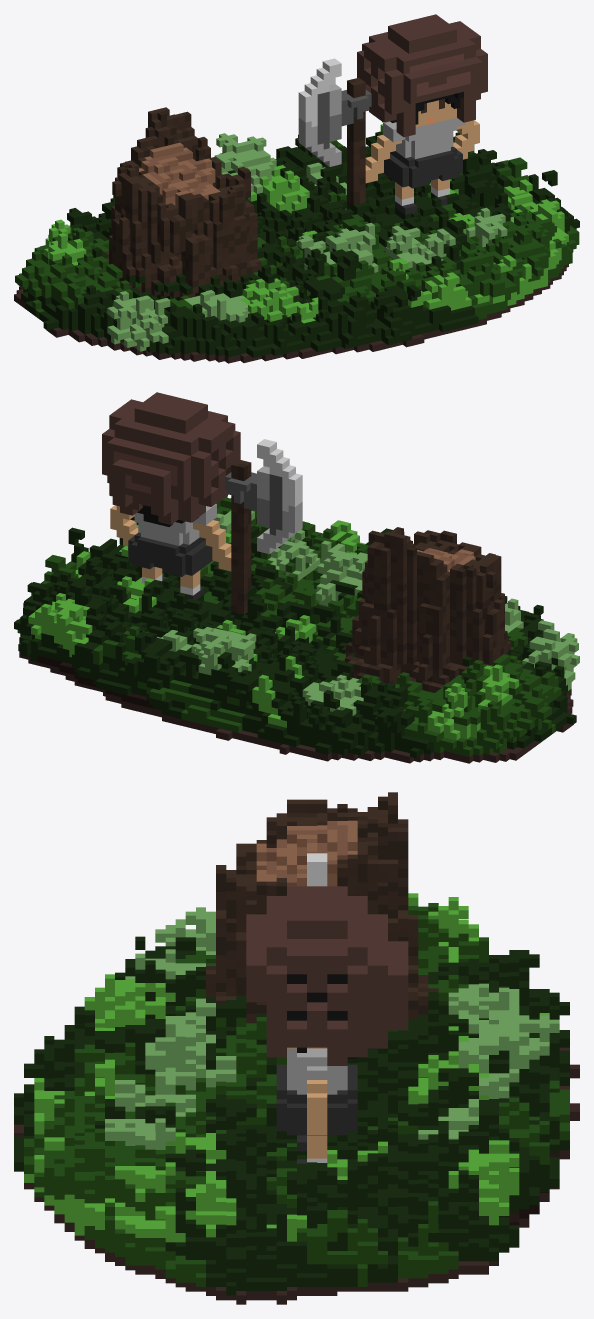
The model's file is treecut.glb.
The picture shows the model from 3 angles, top to bottom: view 1: azimuth 30°, elevation 25°; view 2: azimuth 150°, elevation 25°; view 3: azimuth 270°, elevation 25°; orthographic projection. The views are drawn at different scales.
Visible parts, largest first — view 1: Untitled; view 2: Untitled; view 3: Untitled.
Part boxes in pixels (x1,y1,x2,y2): Untitled: [14, 14, 579, 363]; Untitled: [14, 392, 579, 763]; Untitled: [14, 792, 579, 1304].
Bounding box in the file's own units: 8.4 × 3.4 × 5.6.
1 material, 1 textured.
